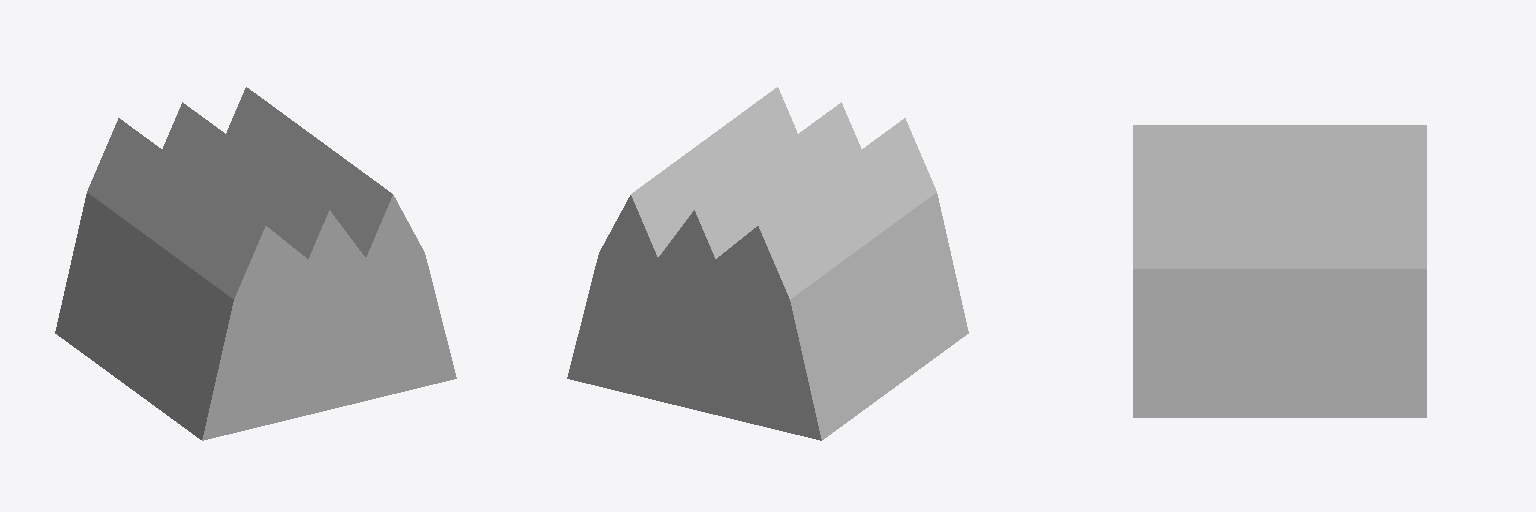
The model's file is grass.obj.
3 renders of one model, left to right at view 1: azimuth 30°, elevation 25°; view 2: azimuth 150°, elevation 25°; view 3: azimuth 270°, elevation 25°, orthographic.
Parts seen in each view (by area): view 1: Cube; view 2: Cube; view 3: Cube.
Part boxes in pixels (left/top/right/bottom): Cube: left=55, top=87, right=456, bottom=440; Cube: left=567, top=87, right=968, bottom=440; Cube: left=1133, top=125, right=1426, bottom=417.
Size of the model in its own units: 1 by 0.75 by 1.